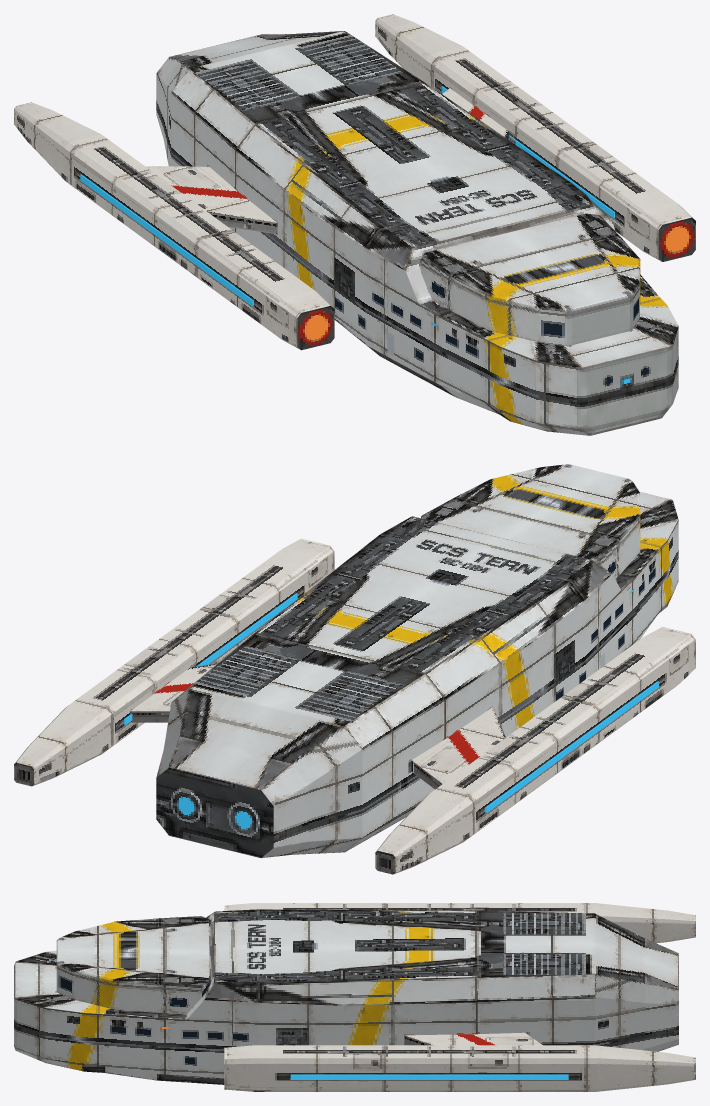
File: tern_lod2.glb
3 views of the same model, one above another, from view 1: azimuth 30°, elevation 25°; view 2: azimuth 150°, elevation 25°; view 3: azimuth 270°, elevation 25° (orthographic). The views are drawn at different scales.
Parts seen in each view (by area): view 1: tern_lod2; view 2: tern_lod2; view 3: tern_lod2.
Boxes of the visible parts, x1,y1,x2,y2 form: tern_lod2: [14, 14, 695, 435]; tern_lod2: [14, 464, 695, 874]; tern_lod2: [14, 903, 695, 1091].
Size of the model in its own units: 45 by 14 by 81.
Materials: 1 (1 with a texture image).
